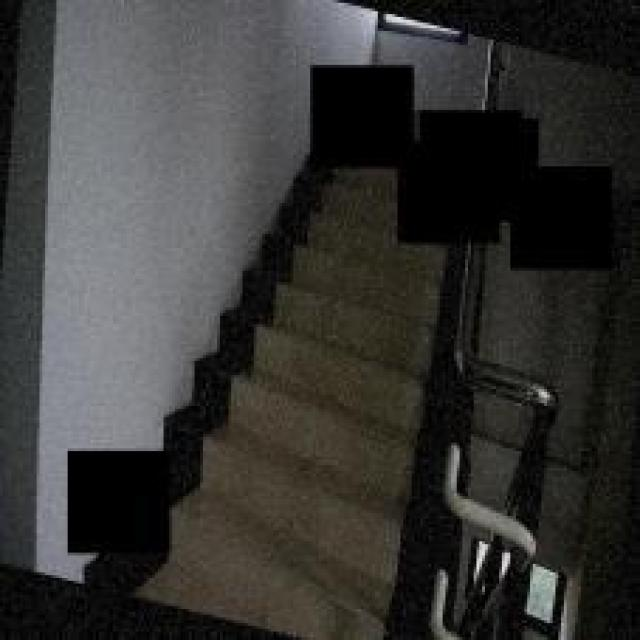upstair: (241, 278, 424, 633)
